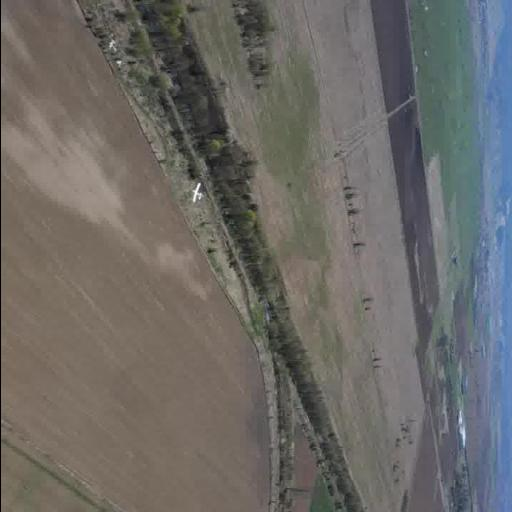uav: (184, 179, 208, 206)
